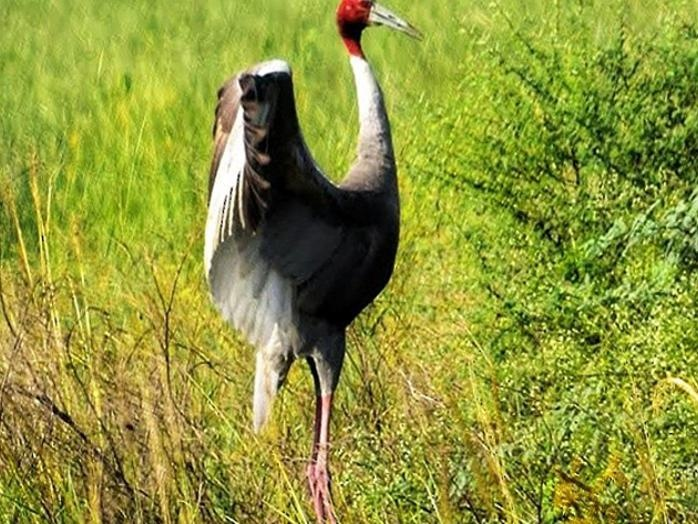crane: (206, 2, 425, 515)
